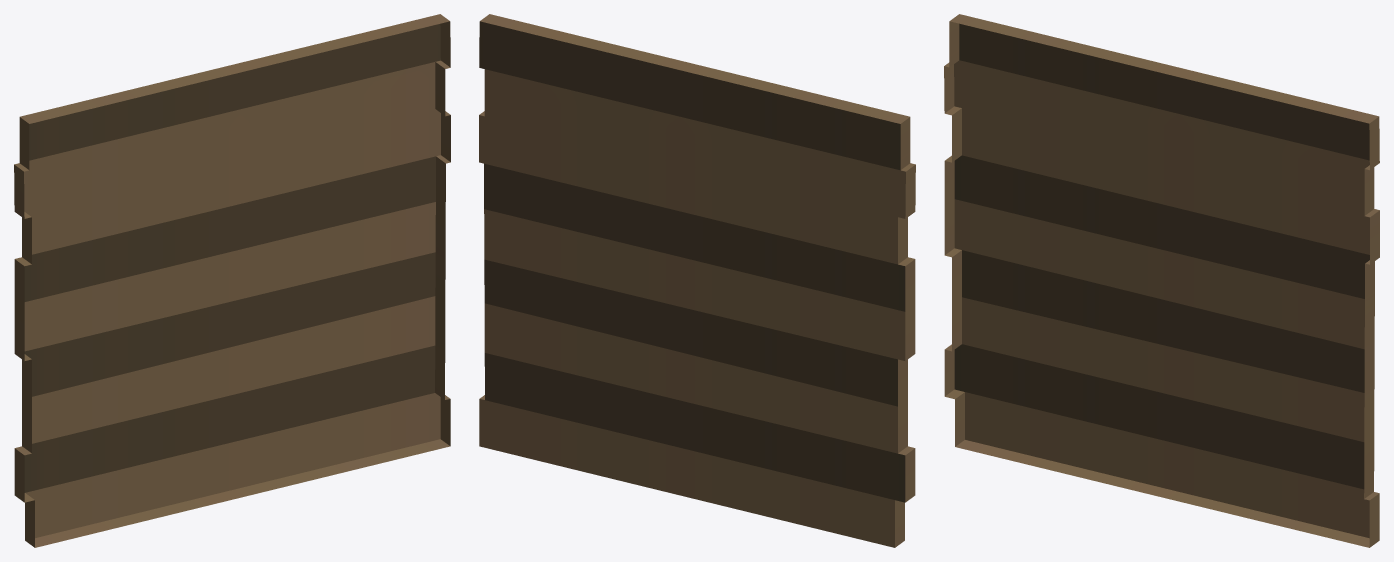
The model's file is SM_floor_01.fbx.
3 renders of one model, left to right at view 1: azimuth 30°, elevation 25°; view 2: azimuth 150°, elevation 25°; view 3: azimuth 330°, elevation 25°, orthographic.
Visible parts, largest first — view 1: SM_floor_01; view 2: SM_floor_01; view 3: SM_floor_01.
Part boxes in pixels (x1,y1,x2,y2): SM_floor_01: [14, 14, 450, 547]; SM_floor_01: [479, 14, 915, 547]; SM_floor_01: [944, 14, 1379, 547].
Size of the model in its own units: 82.66 by 78.71 by 3.34.
